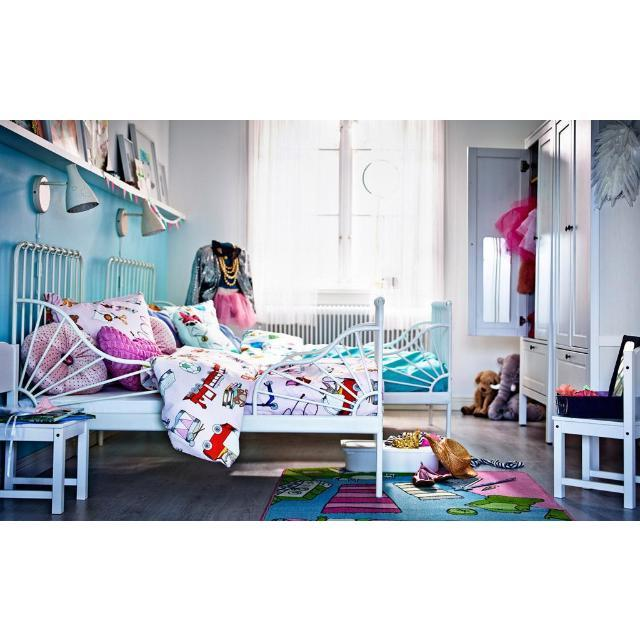bed: (11, 242, 384, 496)
chair: (0, 342, 94, 514), (552, 348, 640, 508)
dresser: (468, 119, 640, 441)
lamp: (32, 163, 99, 213), (116, 199, 165, 236)
rug: (262, 468, 571, 520)
